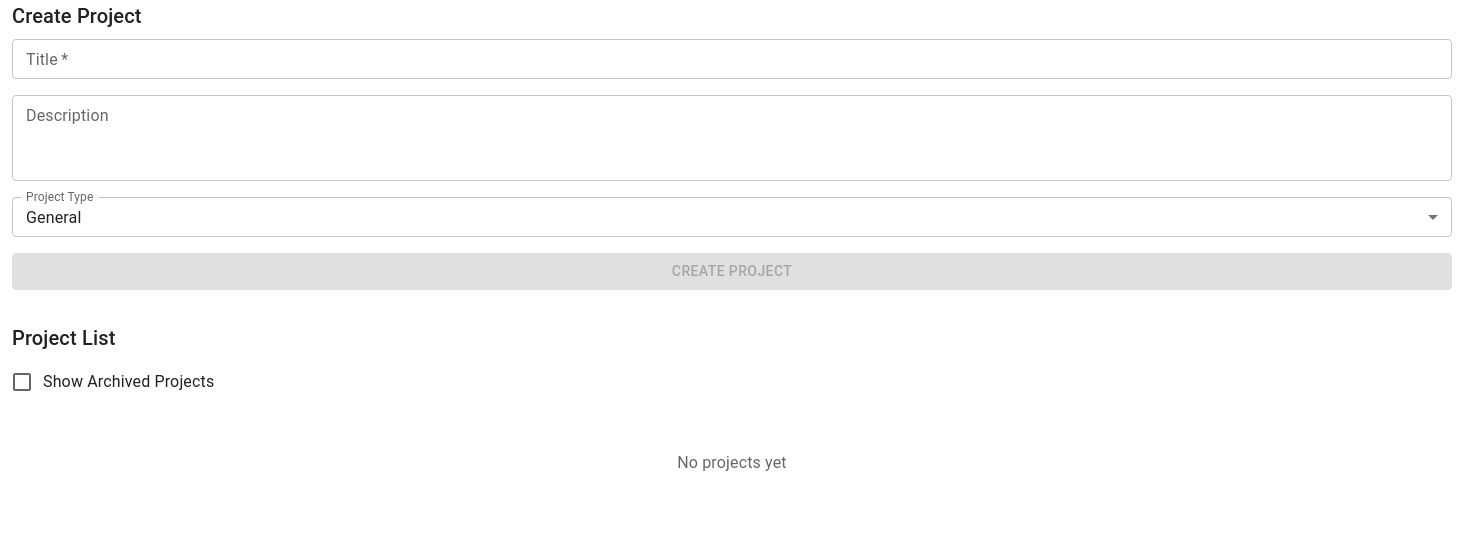
Scenario: ProjectsSection › displays success Alert after creating project
Type "New Project" into the field labelled "Title *" at (732, 59), box top-left (12, 39), bottom-right (1452, 79)
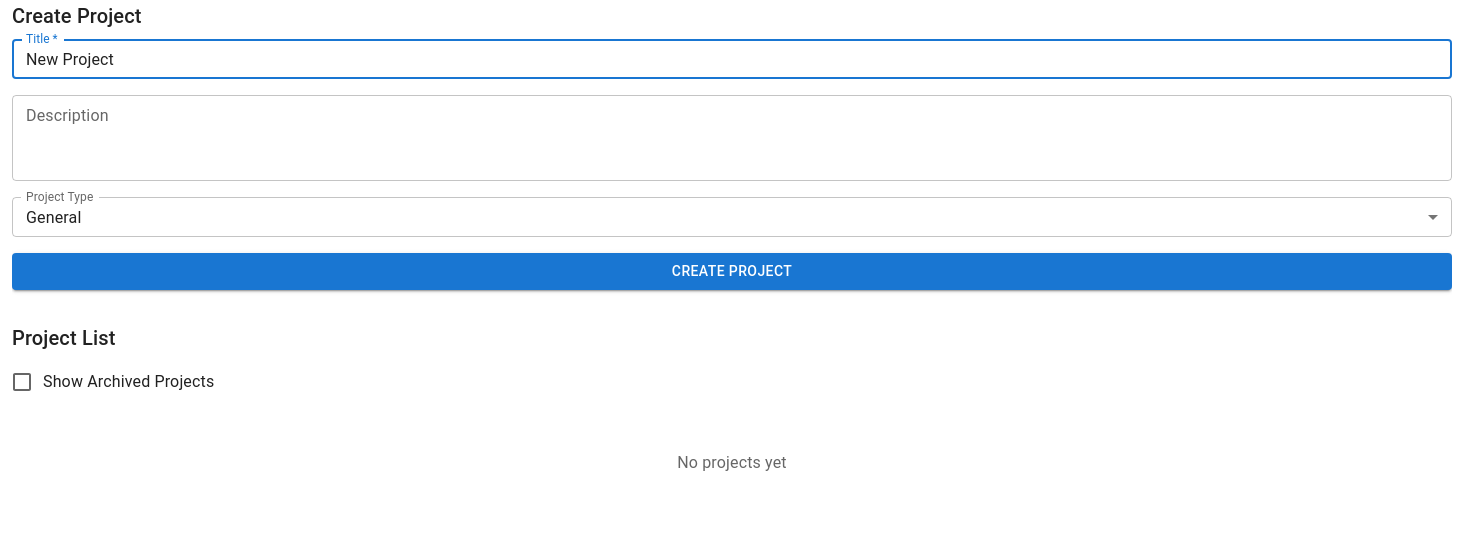
Click the button "Create Project" at (732, 271), box top-left (12, 253), bottom-right (1452, 290)
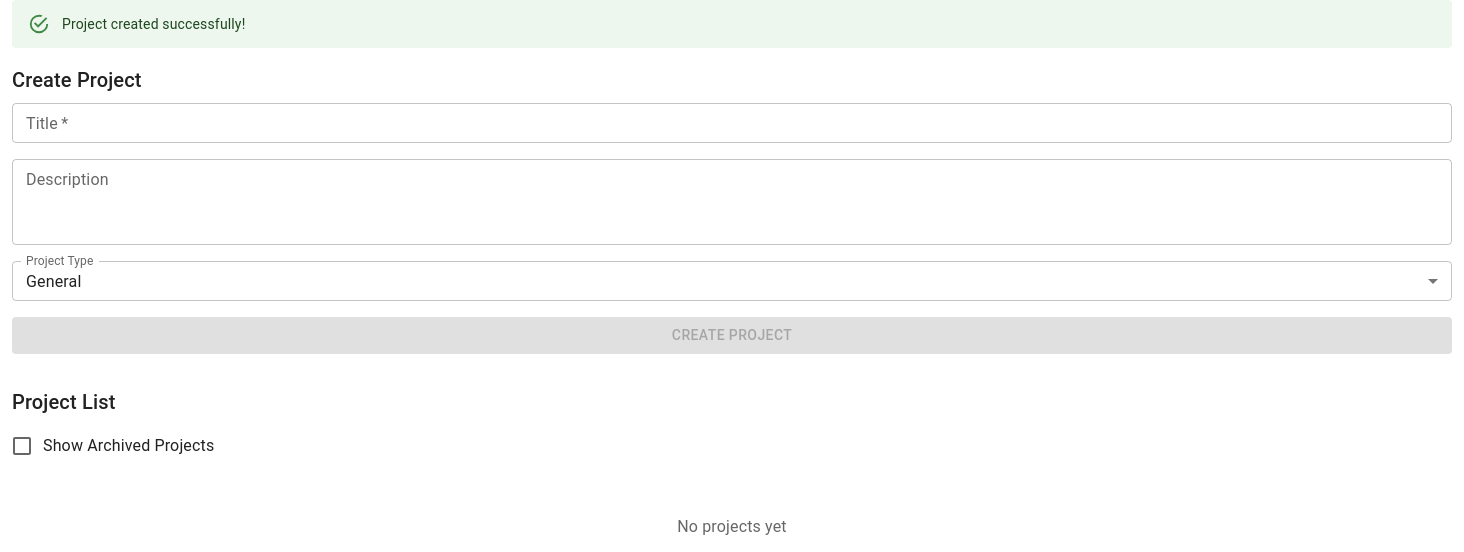
Expected: the text "Project created successfully!" is shown, top-left (62, 16), bottom-right (245, 32)
